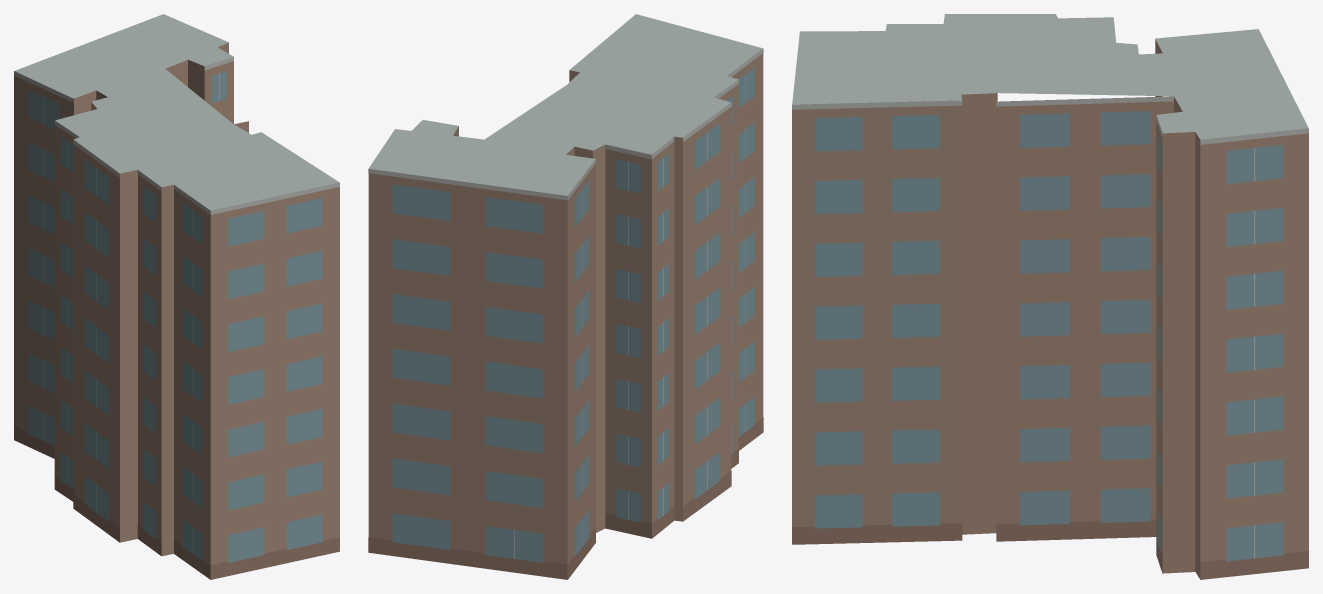
Rendered from survey-upis-32993276.glb.
The picture shows the model from 3 angles, left to right: view 1: azimuth 30°, elevation 25°; view 2: azimuth 150°, elevation 25°; view 3: azimuth 270°, elevation 25°; orthographic projection. The views are drawn at different scales.
Parts seen in each view (by area): view 1: survey-upis-32993276.tmp; view 2: survey-upis-32993276.tmp; view 3: survey-upis-32993276.tmp.
Boxes of the visible parts, x1=… form: survey-upis-32993276.tmp: x1=14, y1=14, x2=339, y2=579; survey-upis-32993276.tmp: x1=368, y1=14, x2=763, y2=579; survey-upis-32993276.tmp: x1=792, y1=14, x2=1308, y2=579.
Bounding box in the file's own units: 12.95 × 21.1 × 22.46.
